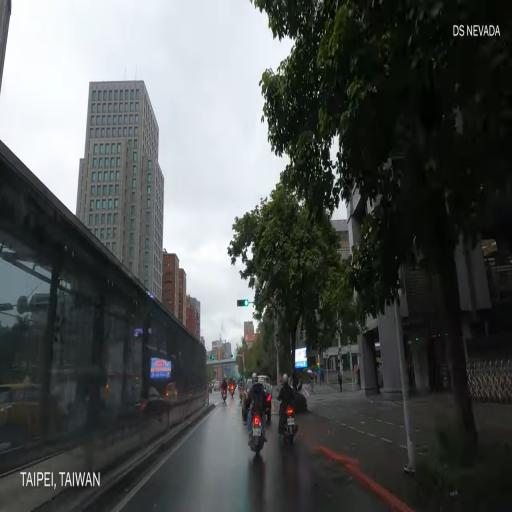Car: (242, 380, 272, 424), (252, 373, 272, 397), (214, 381, 220, 391), (208, 382, 212, 394)
